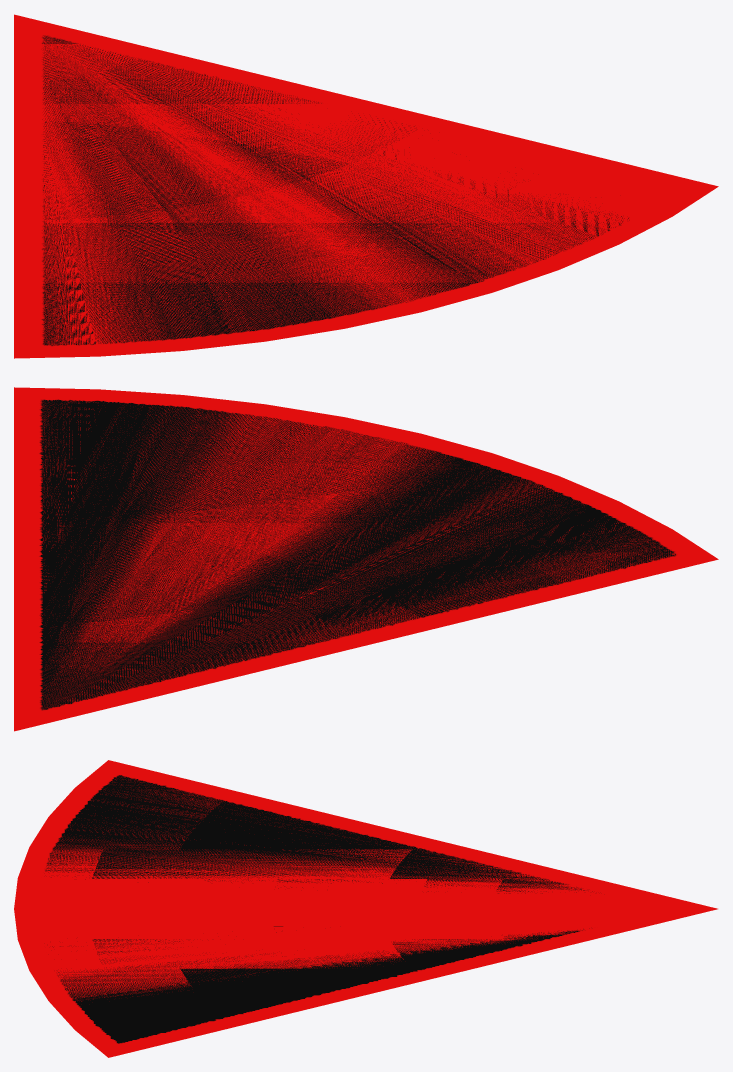
Rendered from damage_area_60.fbx.
The picture shows the model from 3 angles, top to bottom: view 1: azimuth 30°, elevation 25°; view 2: azimuth 150°, elevation 25°; view 3: azimuth 270°, elevation 25°; orthographic projection. The views are drawn at different scales.
Parts seen in each view (by area): view 1: gauge, frame; view 2: frame, gauge; view 3: gauge, frame.
Part boxes in pixels (<box>): gauge: <box>14,14,718,358</box>; frame: <box>14,15,651,358</box>; frame: <box>14,387,718,731</box>; gauge: <box>14,388,715,729</box>; gauge: <box>14,761,717,1005</box>; frame: <box>20,760,672,1057</box>.
Size of the model in its own units: 100 by 0 by 100.
